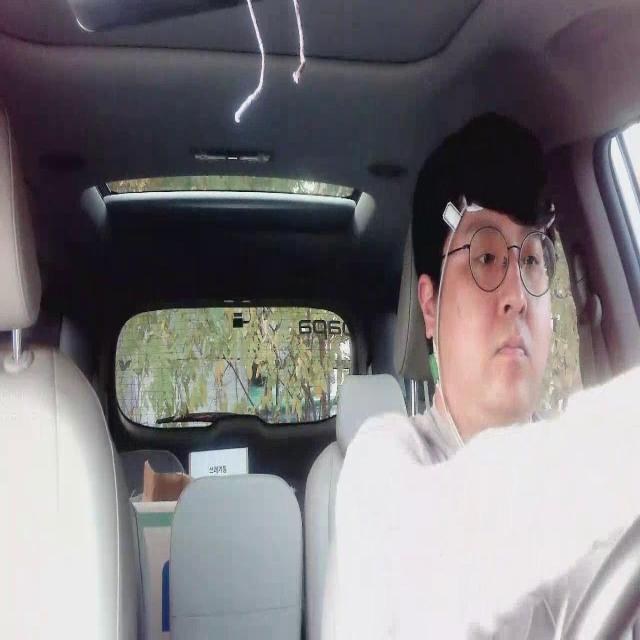Attentive: (411, 115, 558, 422)
